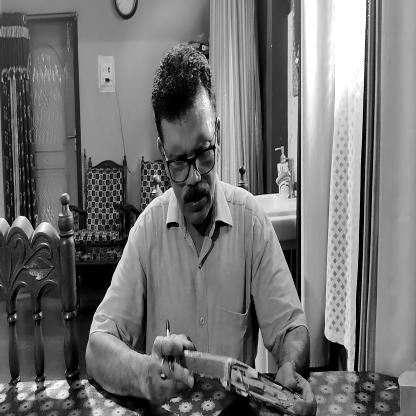Normal: (152, 48, 219, 228)
